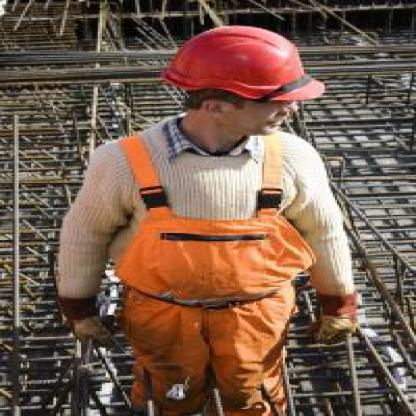helmet: (146, 20, 326, 142)
